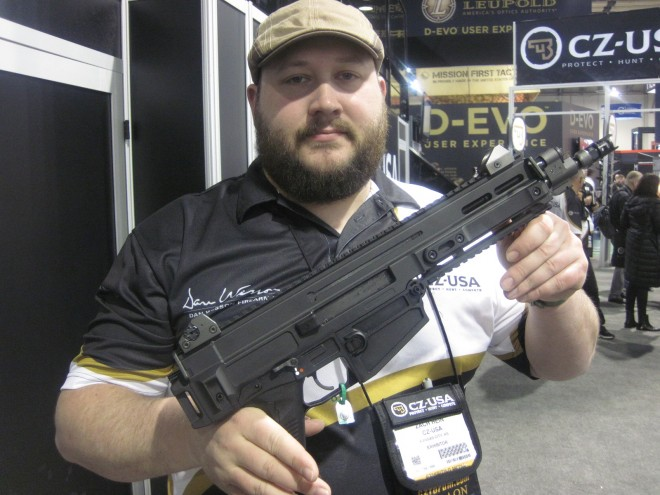Rifle: (167, 127, 618, 430)
